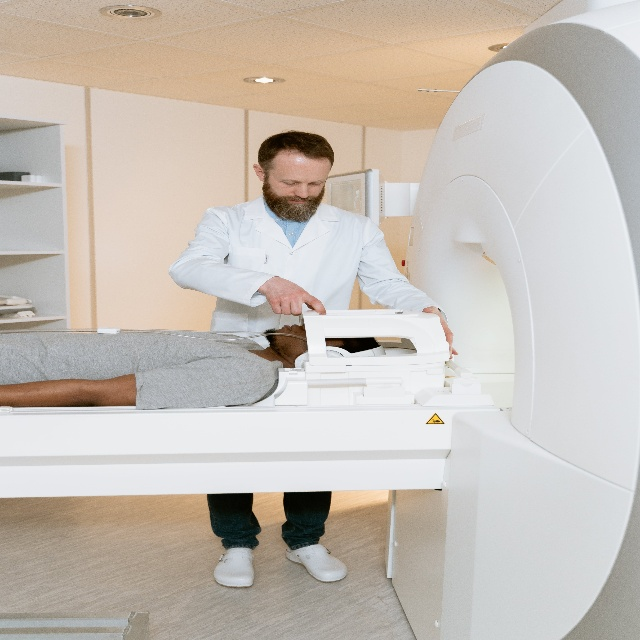Sin_guantes: (261, 276, 327, 315), (424, 305, 458, 361)
